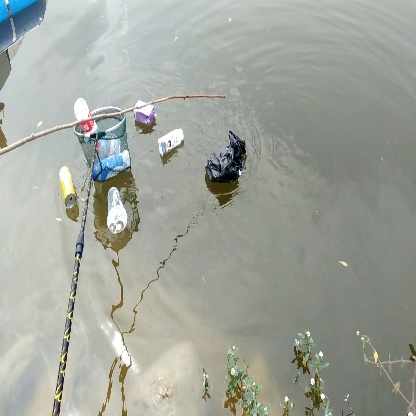bottle: (106, 185, 128, 236), (57, 164, 81, 209)
milk-box: (157, 124, 185, 161)
plastic-bag: (204, 131, 248, 185)
